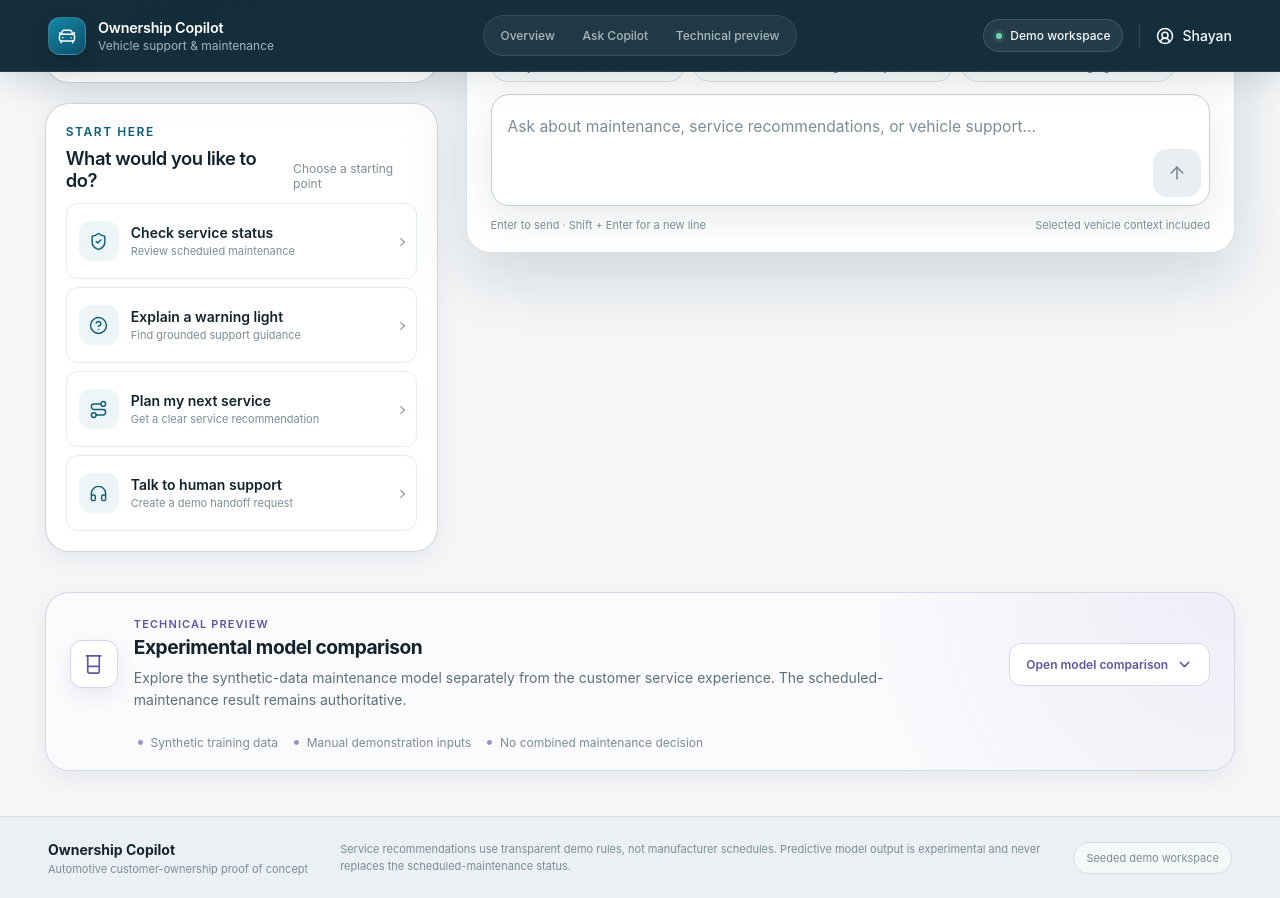
Test: App › dismisses and resets experiment mode
This screenshot has width=1280, height=898.
(page scrolled)
Click the button "Open model comparison". click: (1110, 664)
box: [1009, 643, 1210, 686]
(page scrolled)
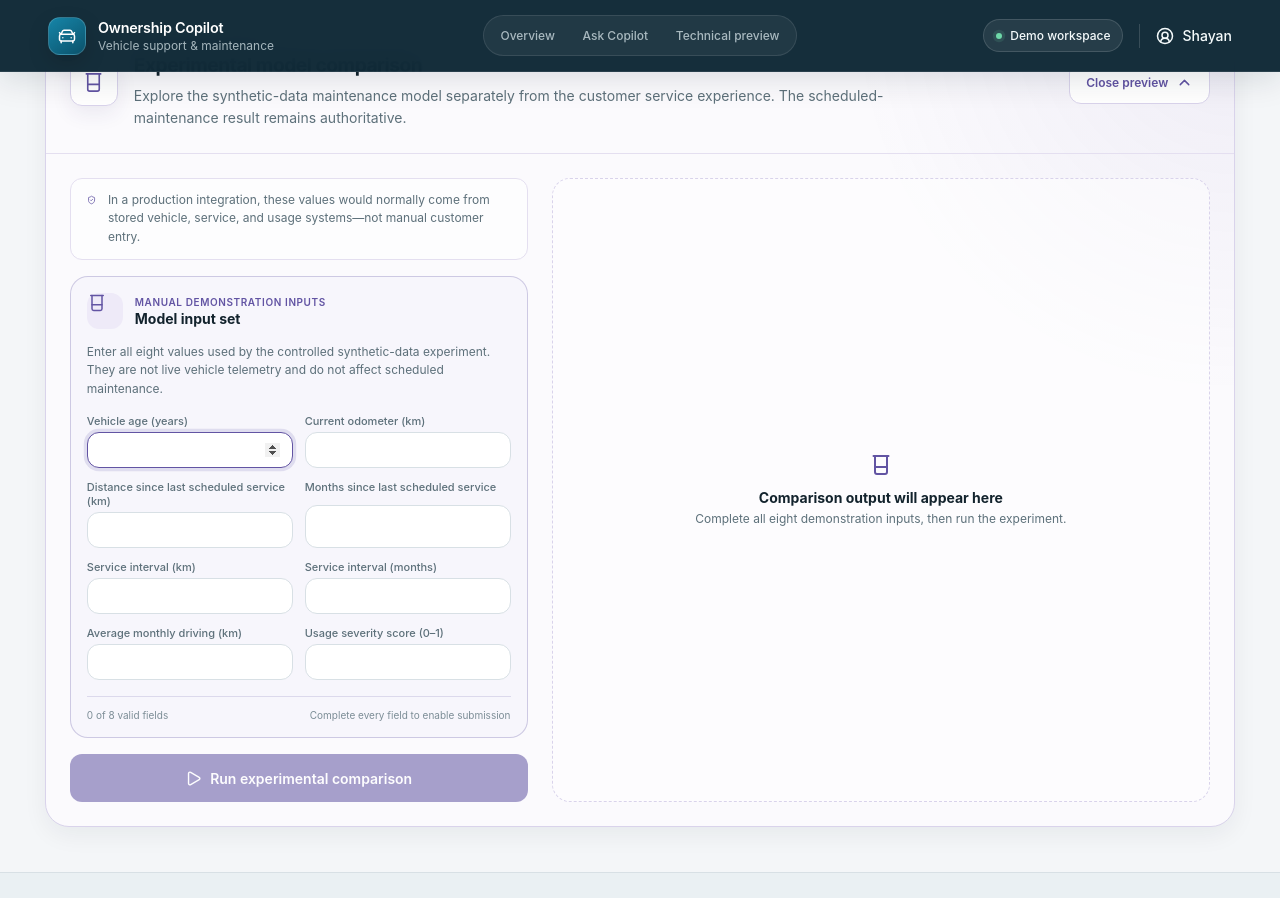
Type "6.5" into the number field labelled "Vehicle age (years)". click: (190, 450)
box: [87, 432, 293, 468]
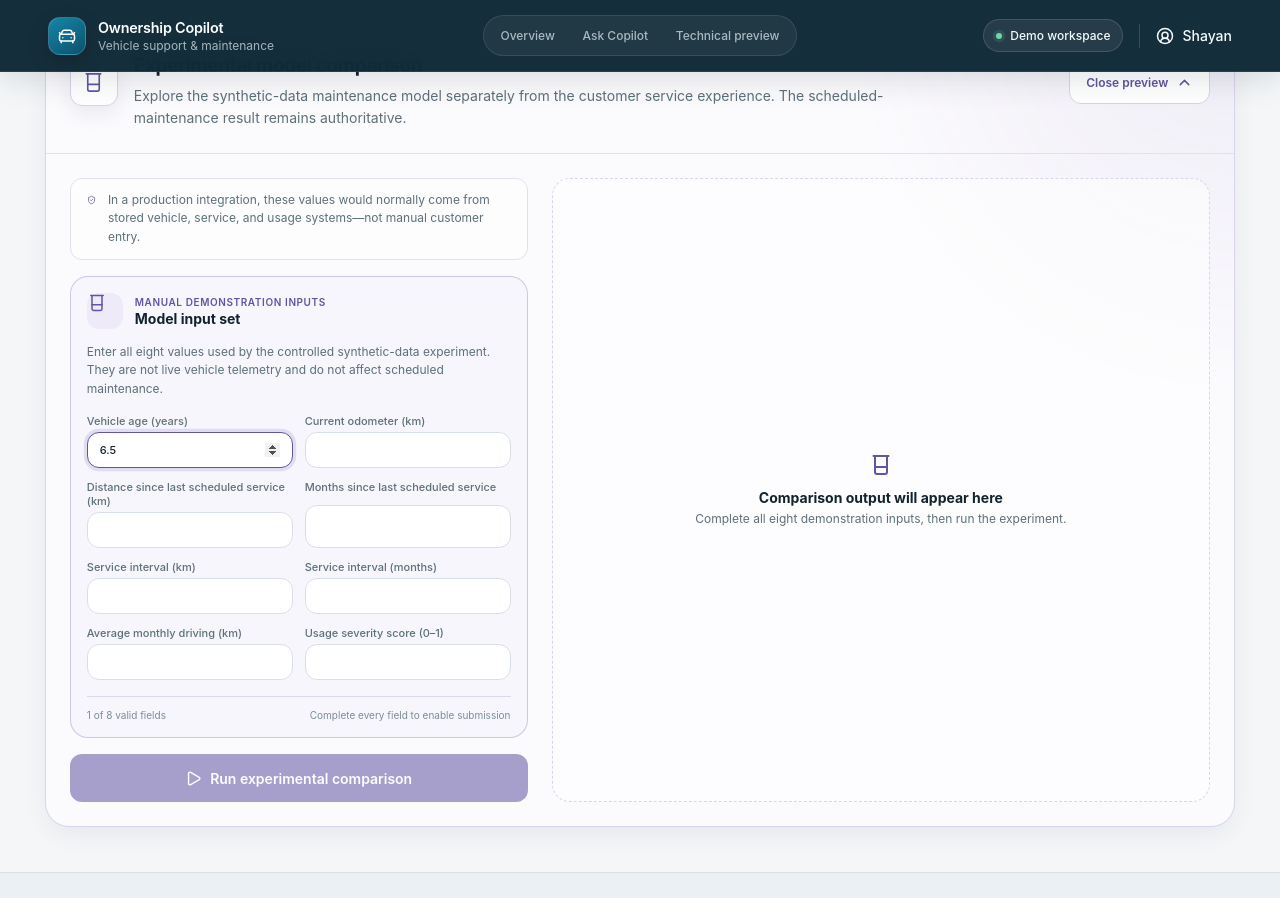
Click the button "Close preview". click: (1140, 82)
box: [1069, 61, 1210, 104]
(page scrolled)
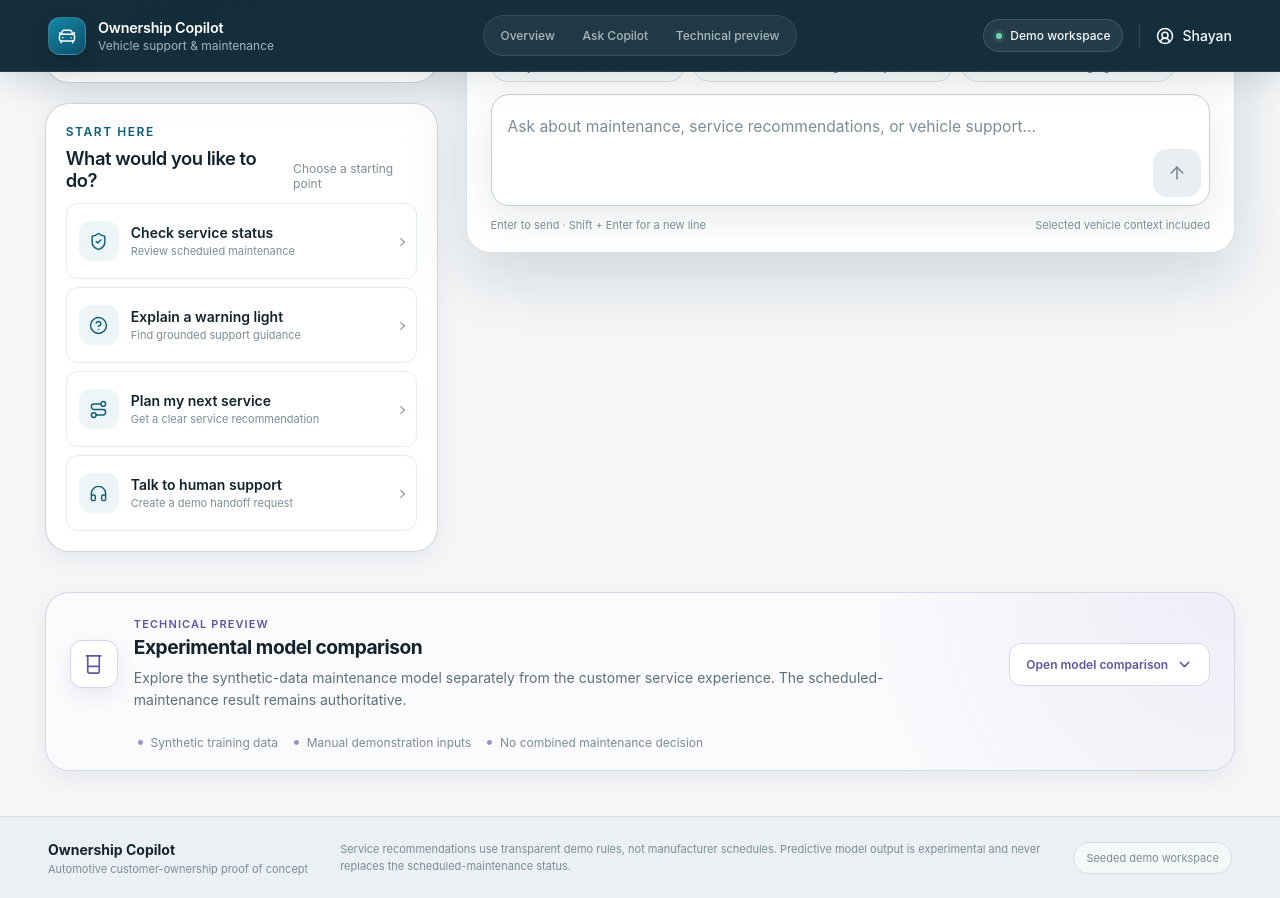
Check: the heading "Model input set" is gone
Check: the button "Open model comparison" is collapsed, box [1009, 643, 1210, 686]
